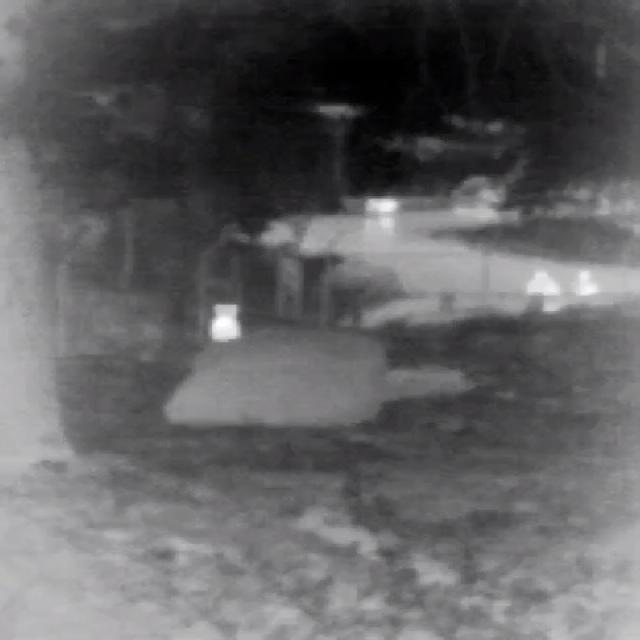cheetah: (210, 303, 238, 341)
human: (529, 272, 560, 312), (578, 271, 598, 295), (382, 197, 398, 226), (367, 200, 380, 225)
